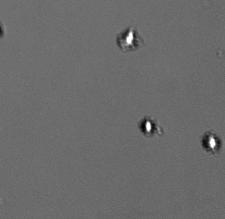Living Cell: (117, 24, 140, 51), (201, 131, 221, 153), (139, 116, 156, 137)
